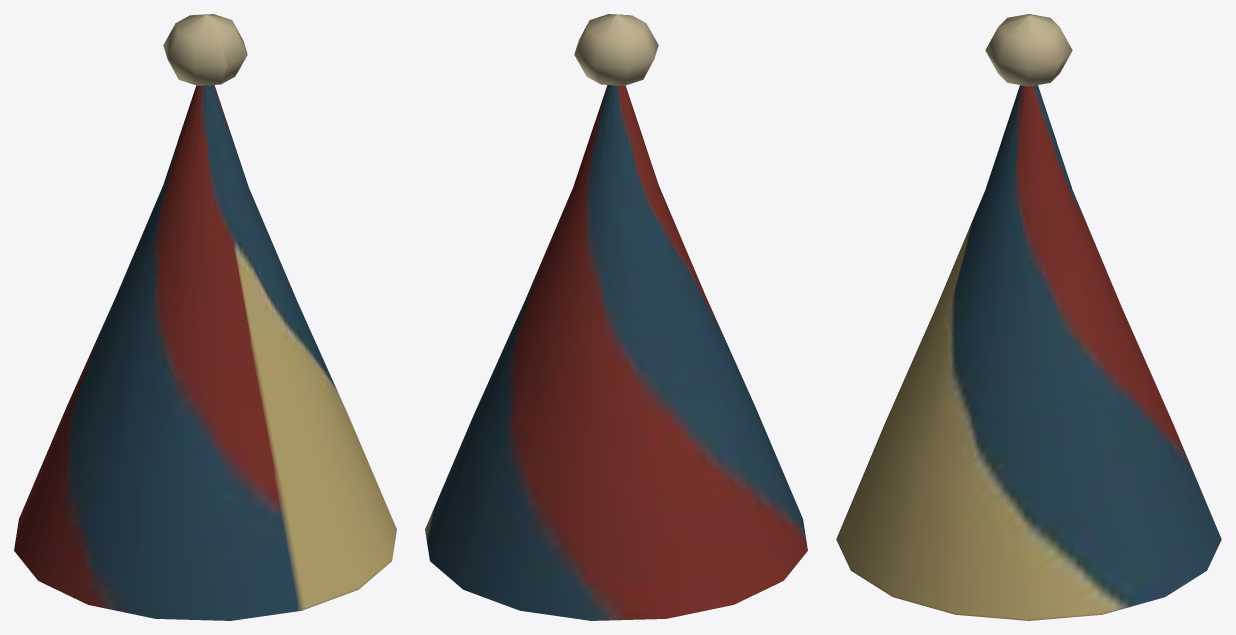
The model's file is party_hat.glb.
3 renders of one model, left to right at view 1: azimuth 30°, elevation 25°; view 2: azimuth 150°, elevation 25°; view 3: azimuth 270°, elevation 25°, orthographic.
Parts seen in each view (by area): view 1: party_hat; view 2: party_hat; view 3: party_hat.
Boxes of the visible parts, x1,y1,x2,y2 form: party_hat: (14,14,396,620); party_hat: (425,14,807,620); party_hat: (836,14,1221,620).
Size of the model in its own units: 0.15 by 0.225 by 0.15.
2 materials, 1 textured.
